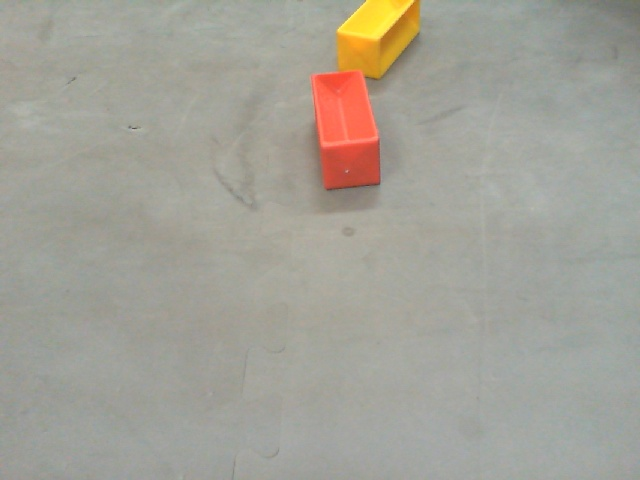RedSample: (306, 72, 389, 191)
YellowSample: (337, 1, 422, 78)
